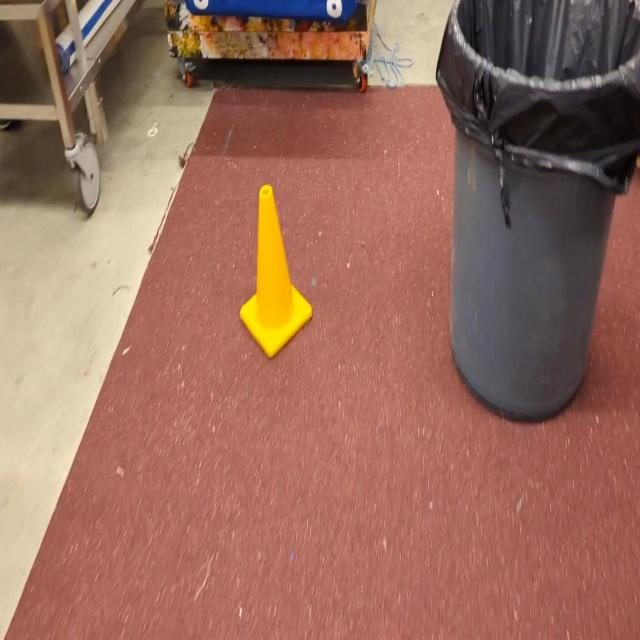frc_cone: (240, 184, 312, 362)
